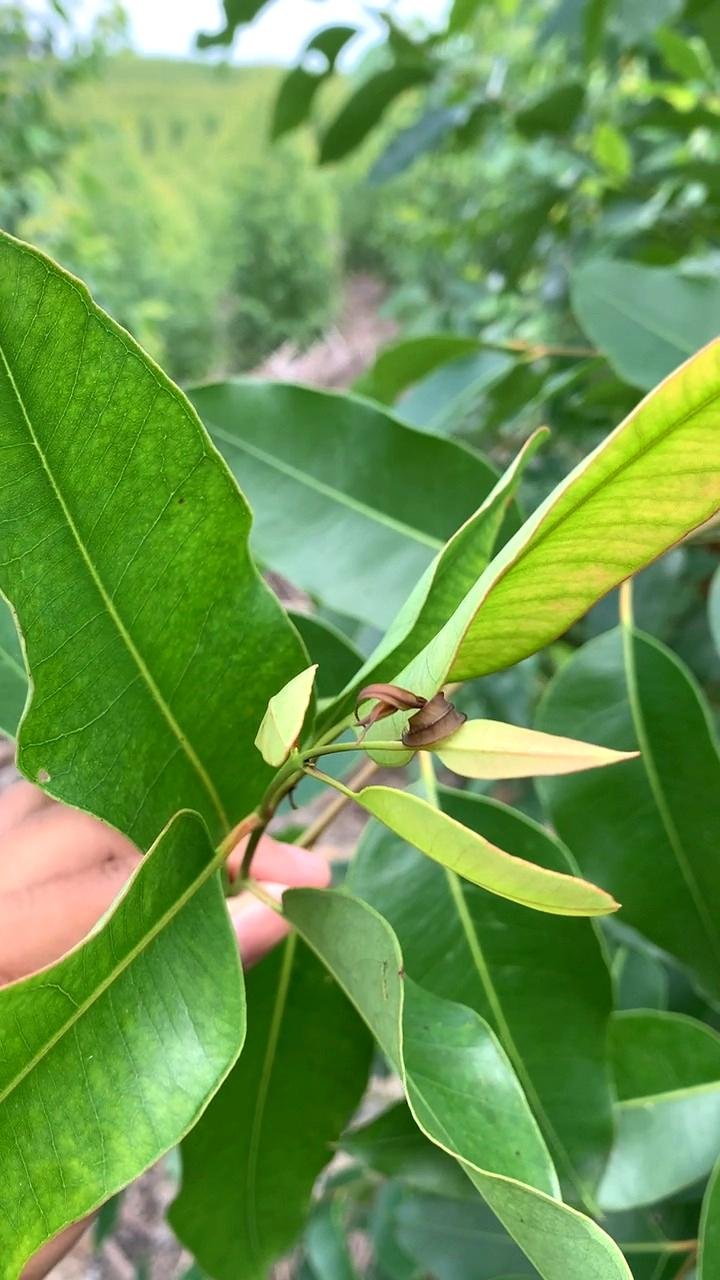Helopeltis-Withered Sprout: (340, 650, 481, 791)
